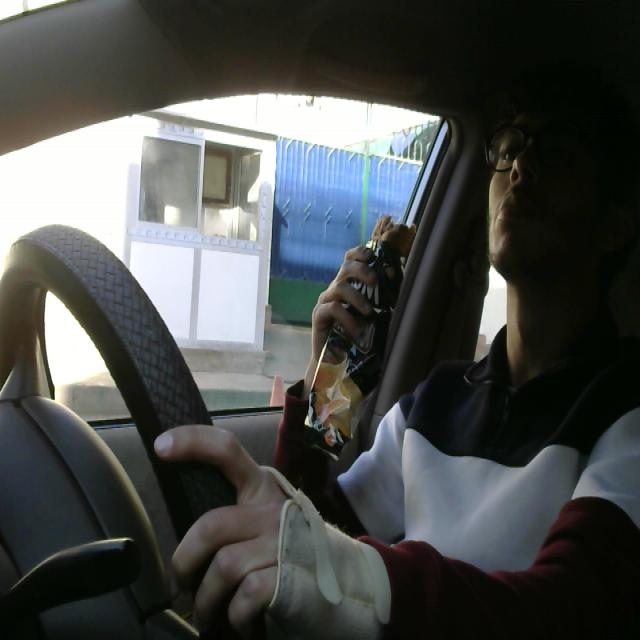eating: (294, 205, 422, 469)
